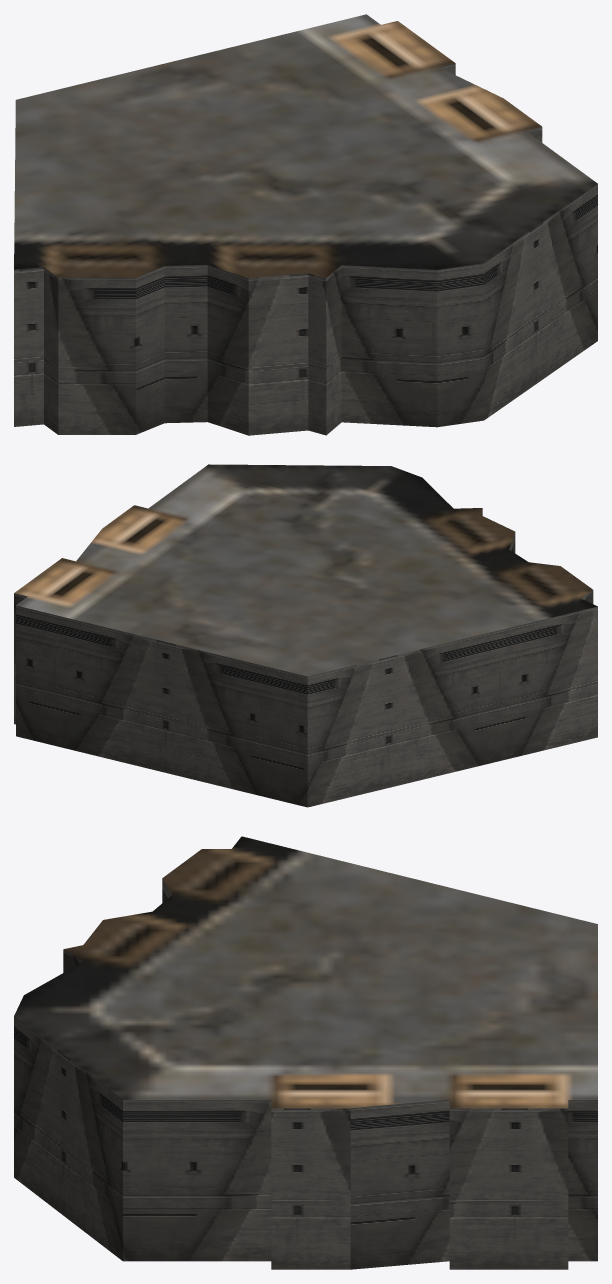
File: fortress_light_a_33.glb
The picture shows the model from 3 angles, top to bottom: view 1: azimuth 30°, elevation 25°; view 2: azimuth 150°, elevation 25°; view 3: azimuth 270°, elevation 25°; orthographic projection. The views are drawn at different scales.
Visible parts, largest first — view 1: buildings/saxarba/fortress_light/fortress_light_a_33; view 2: buildings/saxarba/fortress_light/fortress_light_a_33; view 3: buildings/saxarba/fortress_light/fortress_light_a_33.
Part boxes in pixels (x1,y1,x2,y2): buildings/saxarba/fortress_light/fortress_light_a_33: [14, 14, 597, 435]; buildings/saxarba/fortress_light/fortress_light_a_33: [14, 464, 597, 807]; buildings/saxarba/fortress_light/fortress_light_a_33: [14, 836, 597, 1269].
Size of the model in its own units: 65 by 18 by 59.
